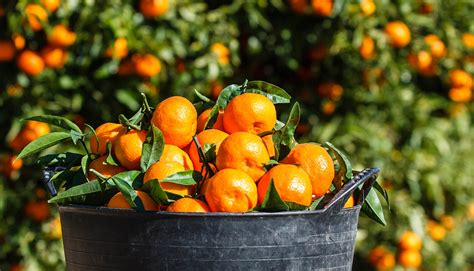orange: (149, 94, 201, 151), (204, 167, 261, 214), (222, 91, 278, 138)
